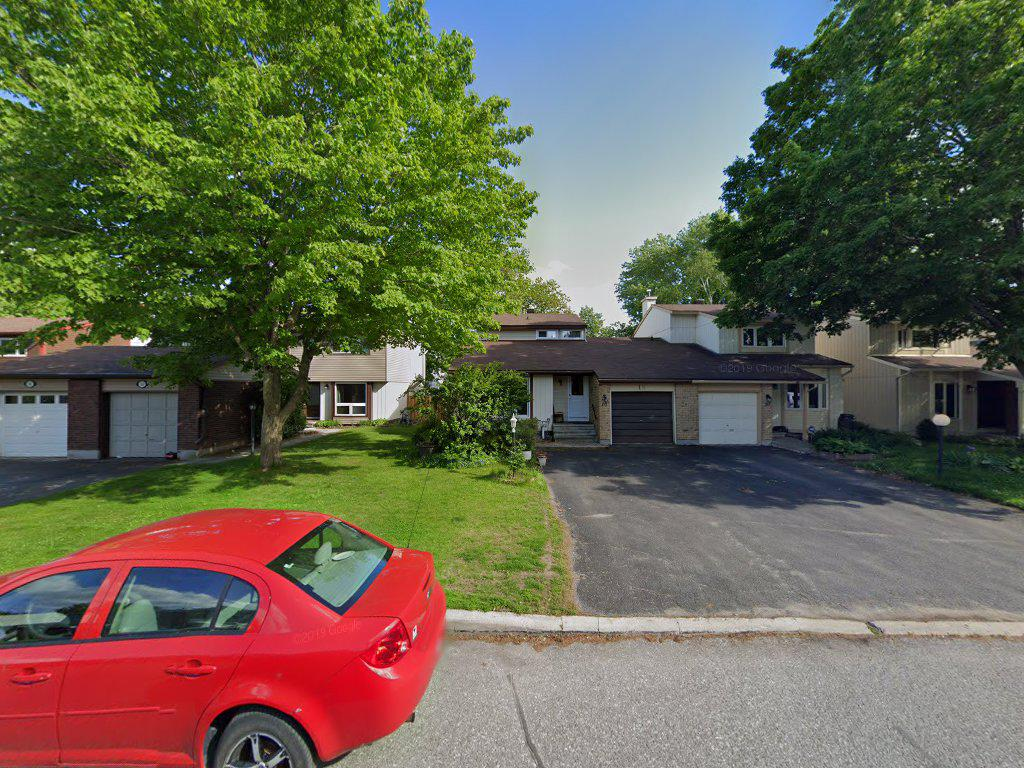trunk: (259, 361, 288, 480)
